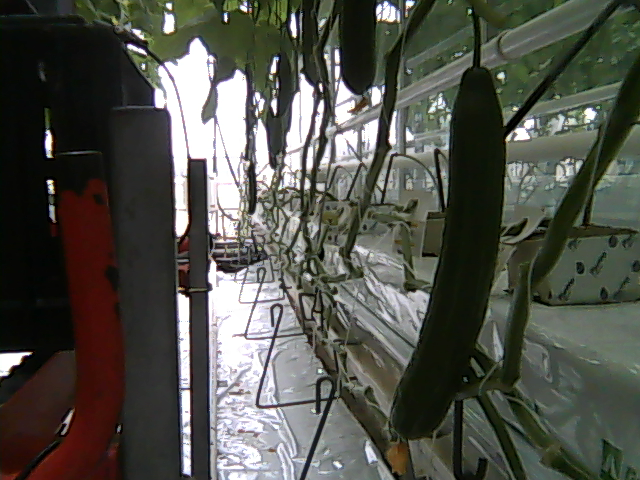concombre: (383, 53, 512, 478), (336, 1, 381, 113)
